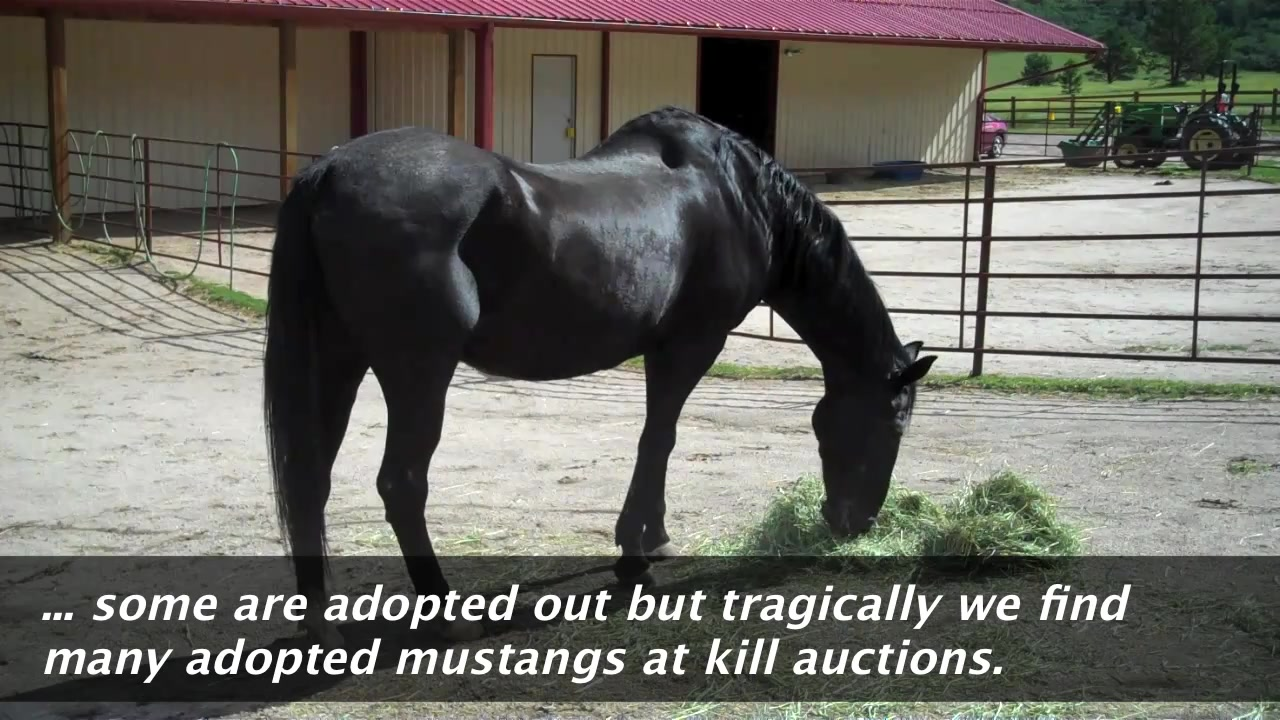horse: (263, 104, 940, 632)
